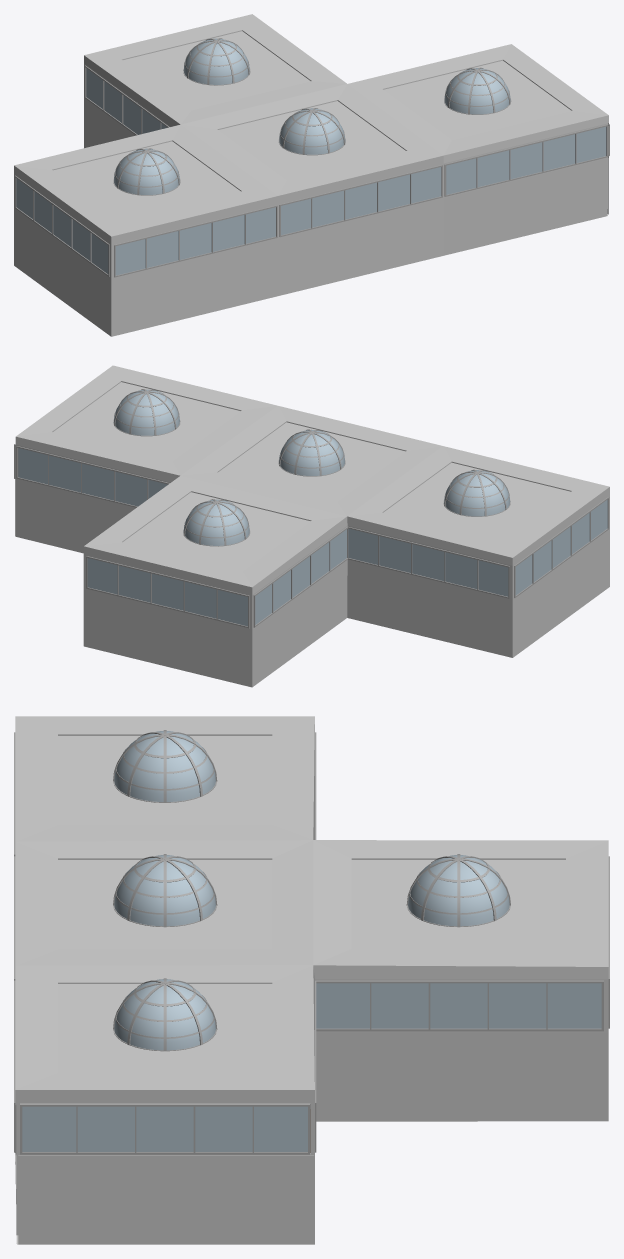
Rendered from wall.fbx.
The picture shows the model from 3 angles, top to bottom: view 1: azimuth 30°, elevation 25°; view 2: azimuth 150°, elevation 25°; view 3: azimuth 270°, elevation 25°; orthographic projection. The views are drawn at different scales.
Visible parts, largest first — view 1: wall_2, ceiling, windows, sphere.007, sphere.005, sphere.004, sphere.003; view 2: wall_2, ceiling, windows, sphere.003, sphere.007, sphere.004, sphere.005; view 3: wall_2, ceiling, windows, sphere.007, sphere.004, sphere.003, sphere.005.
Part boxes in pixels (<box>): wall_2: <box>14,14,608,336</box>; ceiling: <box>53,31,571,220</box>; windows: <box>14,65,609,277</box>; sphere.007: <box>183,38,250,85</box>; sphere.005: <box>113,148,180,195</box>; sphere.004: <box>278,108,345,155</box>; sphere.003: <box>444,67,511,114</box>; wall_2: <box>14,365,609,687</box>; ceiling: <box>53,382,570,571</box>; windows: <box>16,446,609,628</box>; sphere.003: <box>113,389,180,436</box>; sphere.007: <box>183,499,250,546</box>; sphere.004: <box>278,429,345,476</box>; sphere.005: <box>443,469,510,516</box>; wall_2: <box>15,716,608,1244</box>; ceiling: <box>58,736,565,1072</box>; windows: <box>14,732,609,1154</box>; sphere.007: <box>406,854,510,927</box>; sphere.004: <box>113,854,217,927</box>; sphere.003: <box>113,978,217,1051</box>; sphere.005: <box>113,730,217,802</box>.
Size of the model in its own units: 3025 by 752 by 2029.
